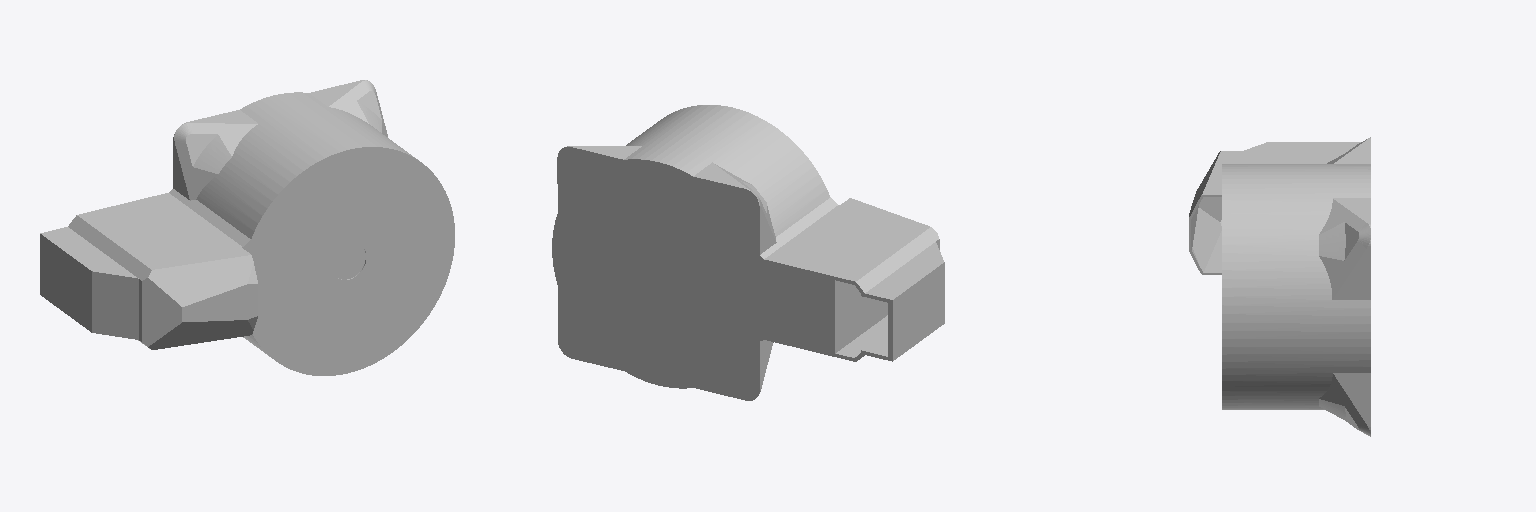
3 renders of one model, left to right at view 1: azimuth 30°, elevation 25°; view 2: azimuth 150°, elevation 25°; view 3: azimuth 270°, elevation 25°, orthographic.
Parts seen in each view (by area): view 1: base_link; view 2: base_link; view 3: base_link.
Boxes of the visible parts, x1=… form: base_link: x1=40, y1=80, x2=454, y2=375; base_link: x1=552, y1=105, x2=944, y2=400; base_link: x1=1189, y1=137, x2=1370, y2=436.
Bounding box in the file's own units: 29.29 × 18.36 × 13.6.